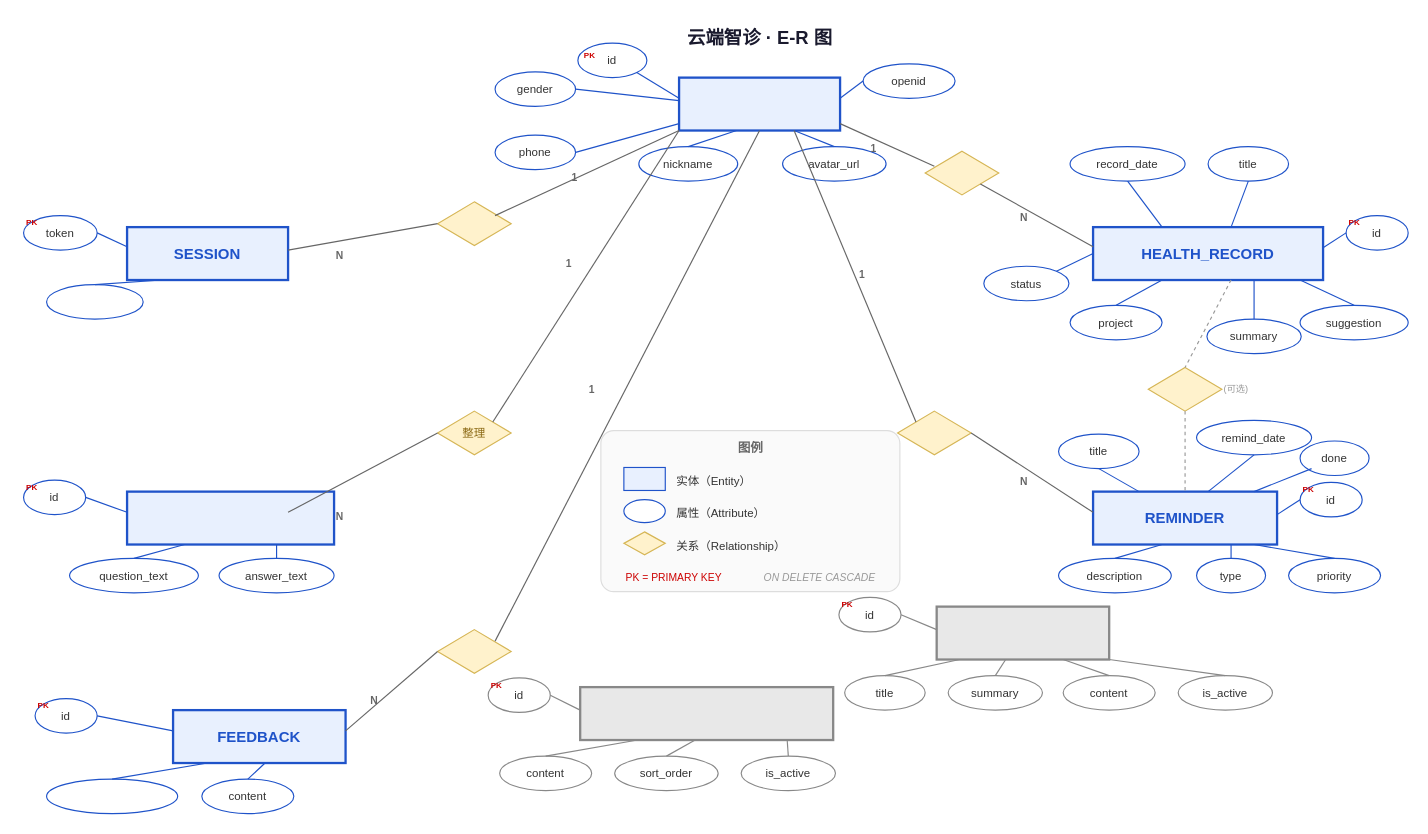
This 1428x834 diagram has some shape labels left out. The centre of each missing label's shape, as x and y in pixels:
"ARTICLE" belongs at point 1022,632.
"expires_at" belongs at point 94,301.
"feedback_type" belongs at point 111,796.
"QUESTION_TEMPLATE" belongs at point 706,713.
"USER" belongs at point 759,103.
"USER_QUESTION" belongs at point 230,517.
"创建" belongs at point 961,172.
"拥有" belongs at point 473,223.
"提交" belongs at point 473,650.
"触发" belongs at point 1184,388.
"设置" belongs at point 933,432.
